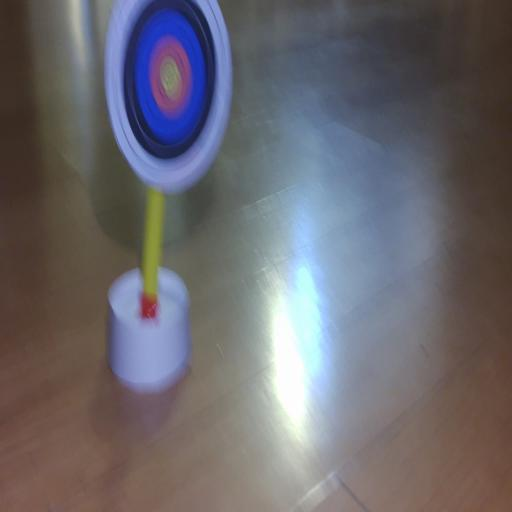target: (104, 0, 232, 193)
